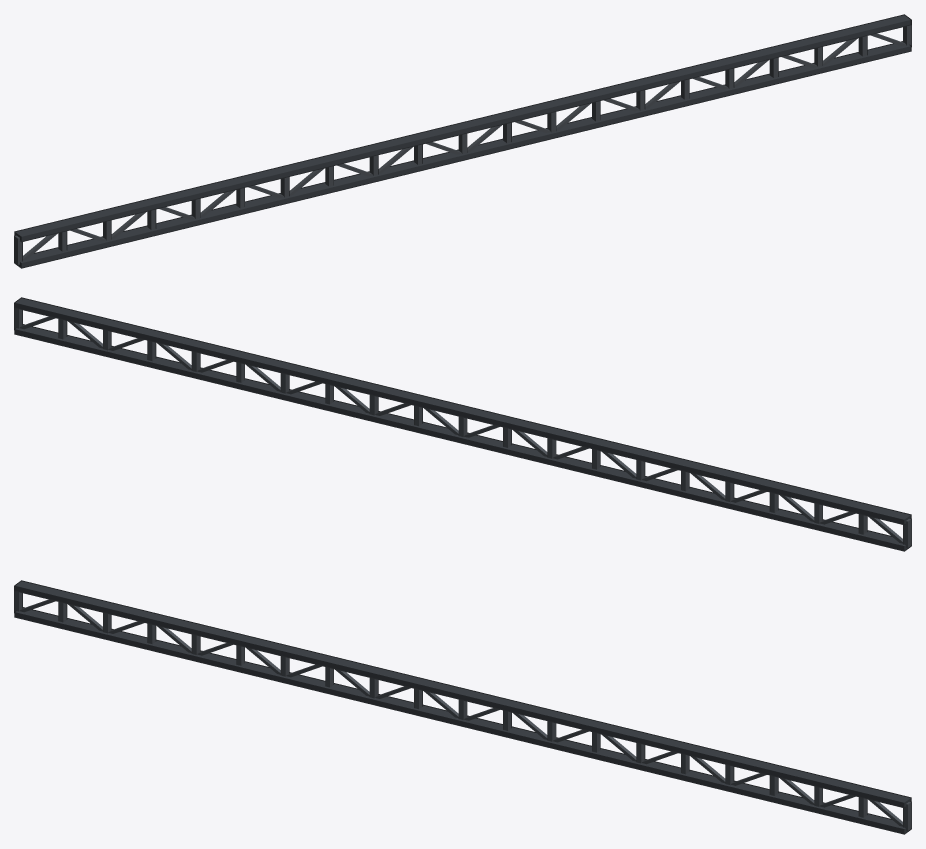
File: SM_CeilingTruss.glb
3 views of the same model, one above another, from view 1: azimuth 30°, elevation 25°; view 2: azimuth 150°, elevation 25°; view 3: azimuth 330°, elevation 25° (orthographic).
Parts seen in each view (by area): view 1: SM_CeilingTruss, SM_CeilingTruss_Outline; view 2: SM_CeilingTruss, SM_CeilingTruss_Outline; view 3: SM_CeilingTruss, SM_CeilingTruss_Outline.
Part boxes in pixels (x1=…): SM_CeilingTruss: x1=14, y1=15, x2=911, y2=267; SM_CeilingTruss_Outline: x1=14, y1=14, x2=911, y2=268; SM_CeilingTruss: x1=14, y1=298, x2=911, y2=550; SM_CeilingTruss_Outline: x1=14, y1=297, x2=911, y2=551; SM_CeilingTruss: x1=14, y1=581, x2=911, y2=833; SM_CeilingTruss_Outline: x1=14, y1=580, x2=911, y2=834.
Size of the model in its own units: 24.14 by 0.828 by 0.328.
Materials: 2 (1 with a texture image).
